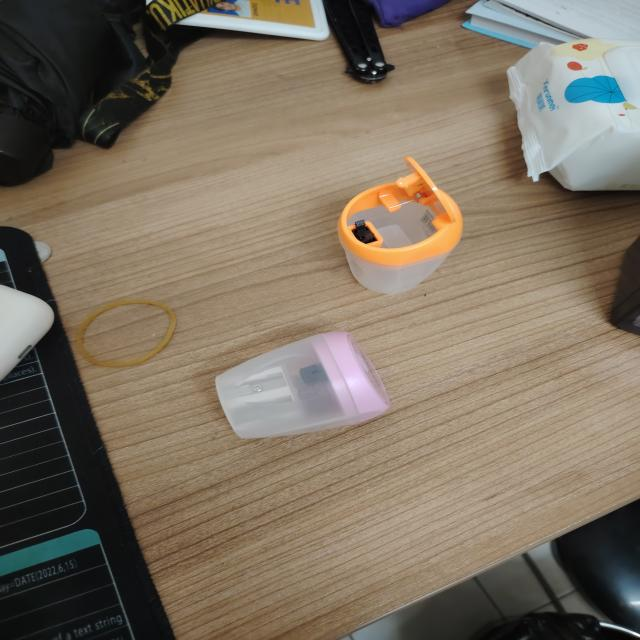sharpener: (216, 332, 389, 438), (338, 156, 463, 293)
